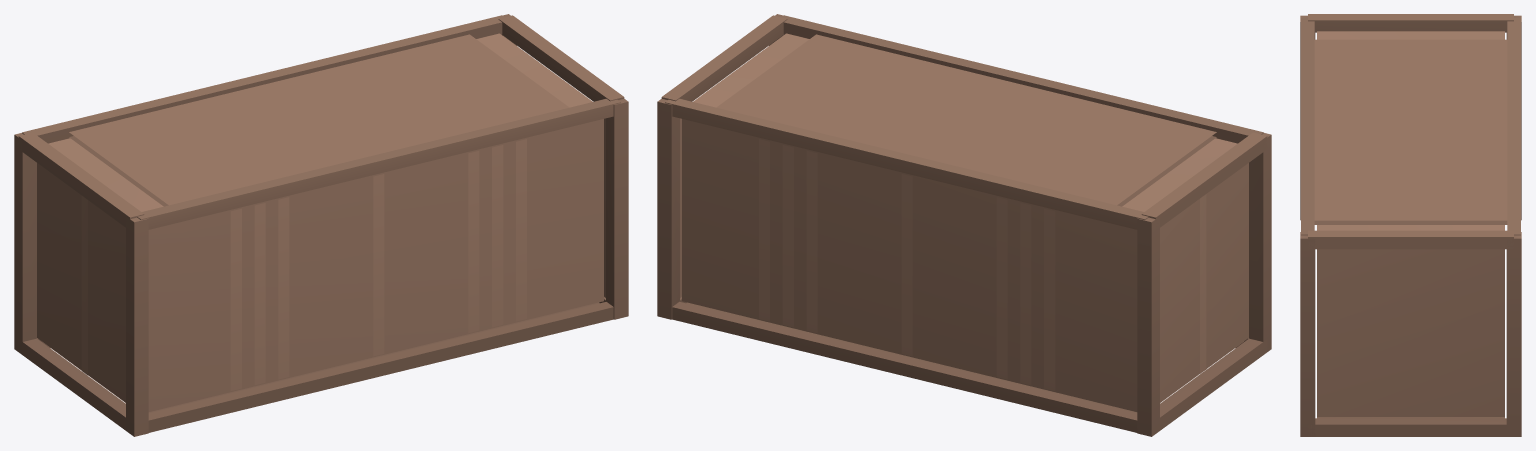
Rendered from mil_container_rust.lod.glb.
3 views of the same model, side by side, from view 1: azimuth 30°, elevation 25°; view 2: azimuth 150°, elevation 25°; view 3: azimuth 270°, elevation 25° (orthographic). The views are drawn at different scales.
Visible parts, largest first — view 1: mil_container_rust; view 2: mil_container_rust; view 3: mil_container_rust.
Part boxes in pixels (x1,y1,x2,y2): mil_container_rust: [14, 14, 628, 436]; mil_container_rust: [657, 14, 1271, 436]; mil_container_rust: [1300, 14, 1521, 436].
Bounding box in the file's own units: 6.24 × 2.61 × 2.62.
